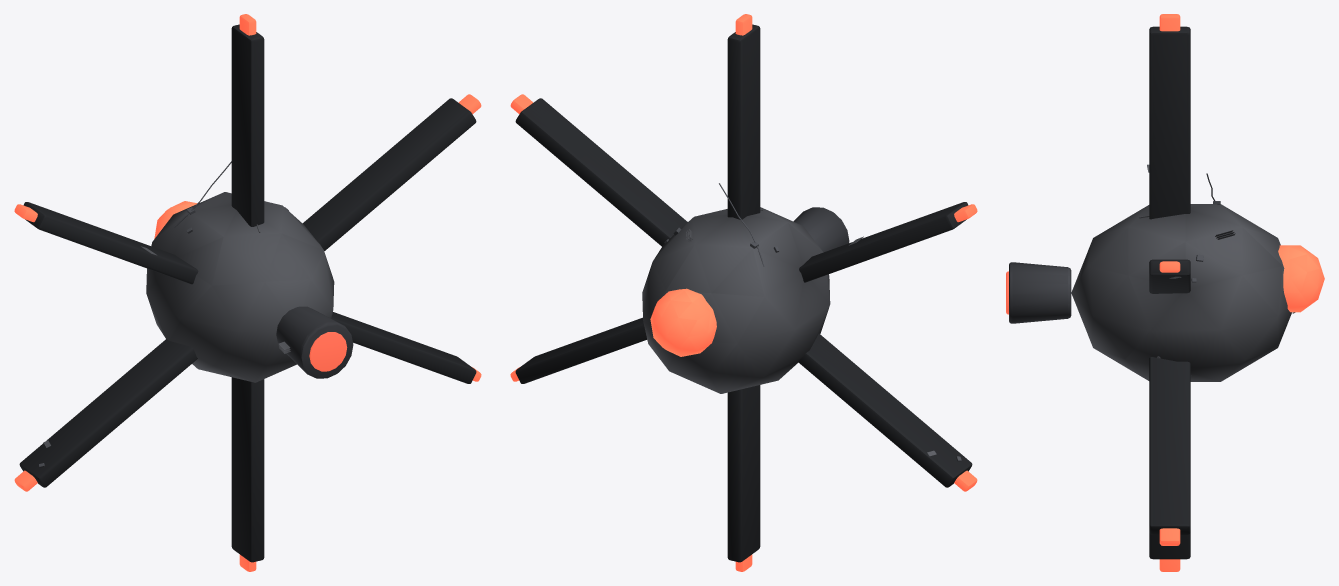
The model's file is enemy_widow.glb.
3 renders of one model, left to right at view 1: azimuth 30°, elevation 25°; view 2: azimuth 150°, elevation 25°; view 3: azimuth 270°, elevation 25°, orthographic.
Visible parts, largest first — view 1: EnemyWidow; view 2: EnemyWidow; view 3: EnemyWidow.
Boxes of the visible parts, x1=… form: EnemyWidow: x1=14, y1=14, x2=481, y2=571; EnemyWidow: x1=510, y1=14, x2=977, y2=571; EnemyWidow: x1=1006, y1=14, x2=1324, y2=571.
Size of the model in its own units: 5.14 by 5.9 by 3.07.
